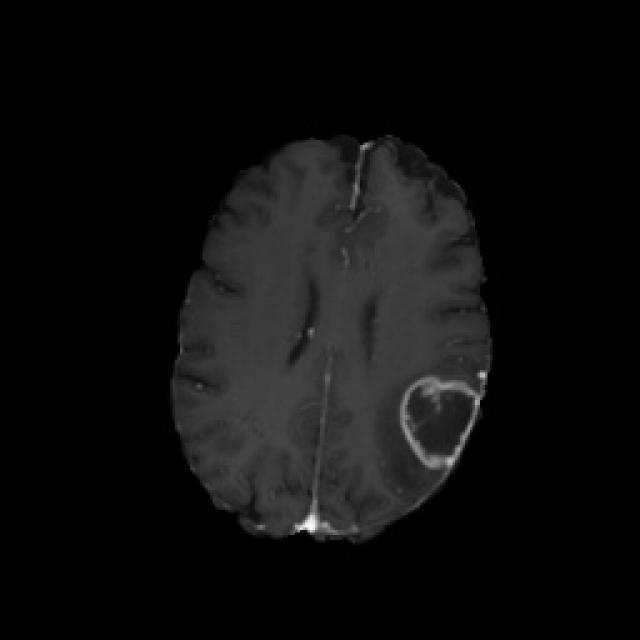negative: (398, 376, 480, 469)
